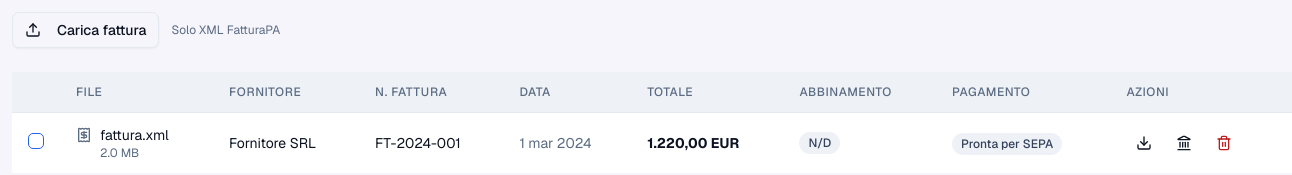
Test: InvoicesTab › disables the generate button when the execution date is cleared
Check: the text "Pronta per SEPA" is shown, box [952,133,1062,155]
Click the checkbox named "seleziona fattura".
click(36, 141)  # box [28,133,44,149]
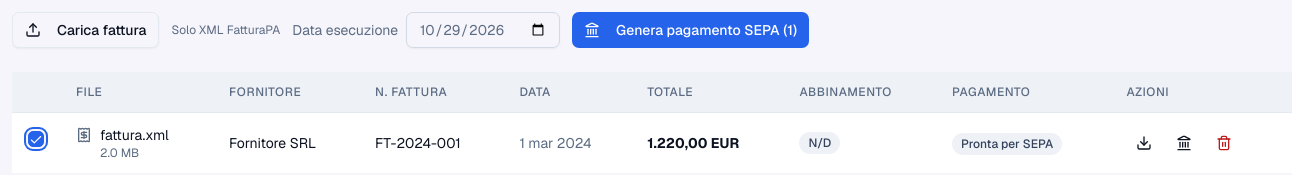
Clear the date field labelled "Data esecuzione" at [483, 30], box [406,12,560,48]
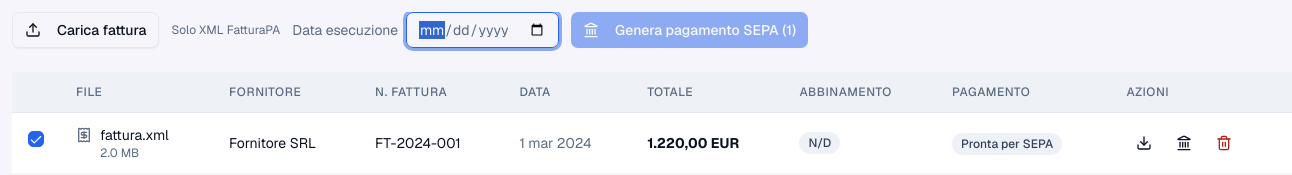
Check: the button "Genera pagamento SEPA (1)" is disabled, box [571,12,808,48]
